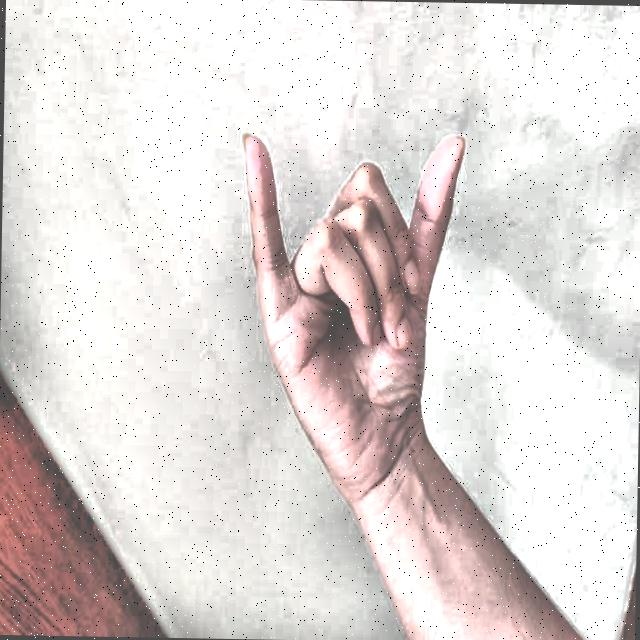Oi: (215, 90, 481, 490)
